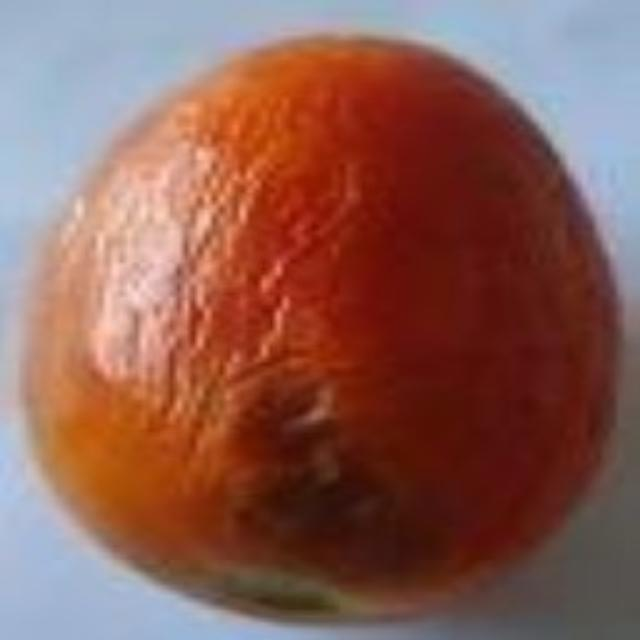defect: (22, 30, 630, 619)
